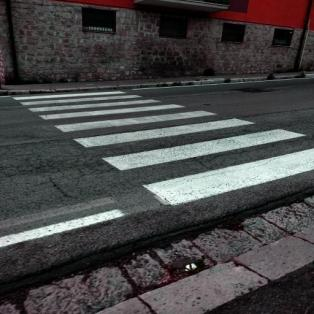Paso de Cebra: (66, 117, 312, 177)
